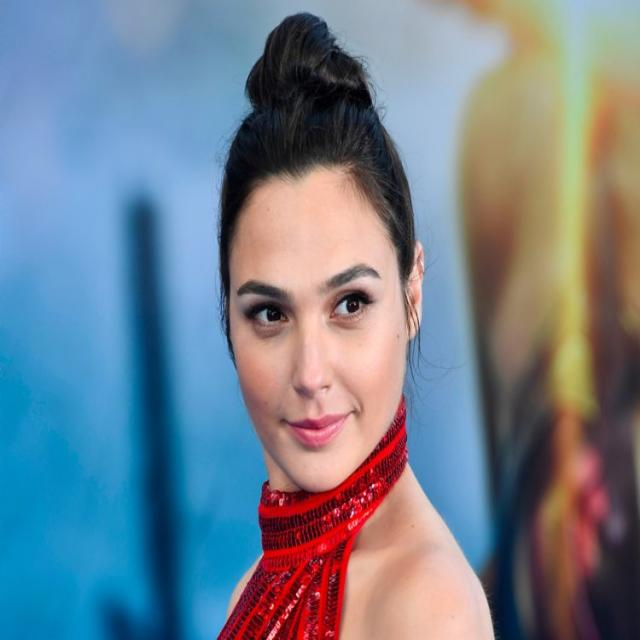human: (212, 11, 496, 640)
